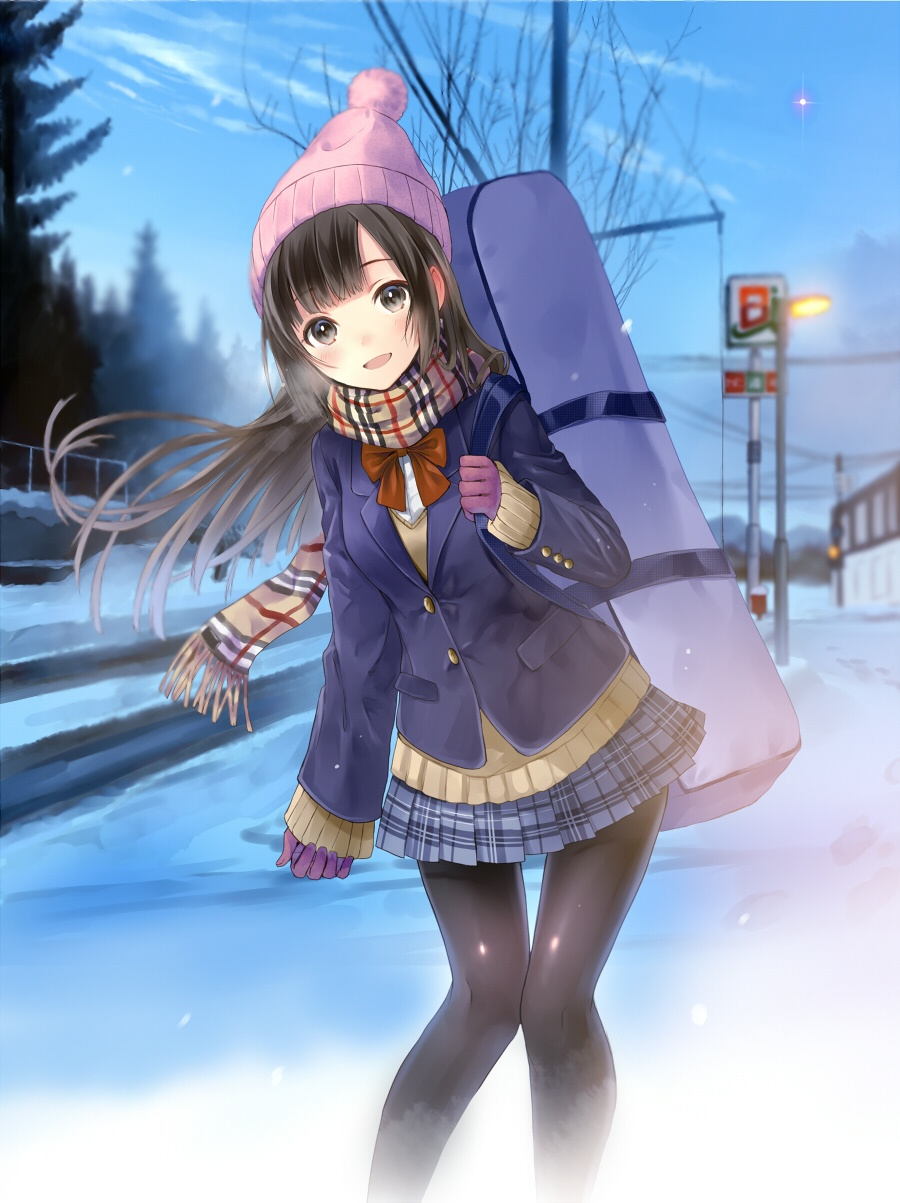纸片人正脸: (256, 103, 457, 413)
